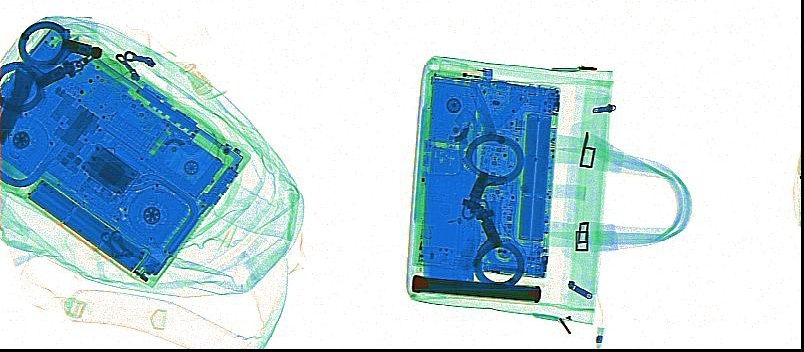handcuffs: (1, 21, 104, 143), (460, 130, 525, 287)
knife: (417, 109, 481, 281), (1, 65, 35, 148), (463, 76, 497, 140)
